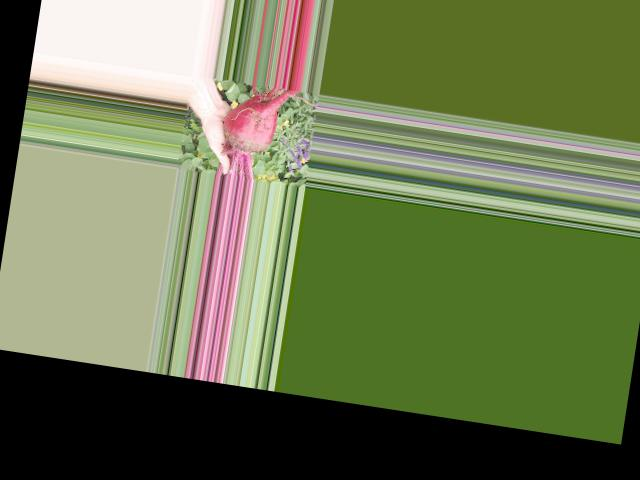beet: (216, 79, 300, 184)
